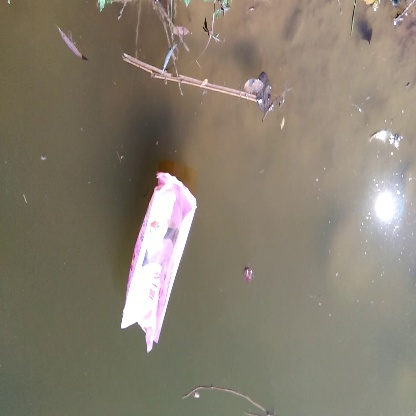plastic-bag: (119, 169, 197, 356)
